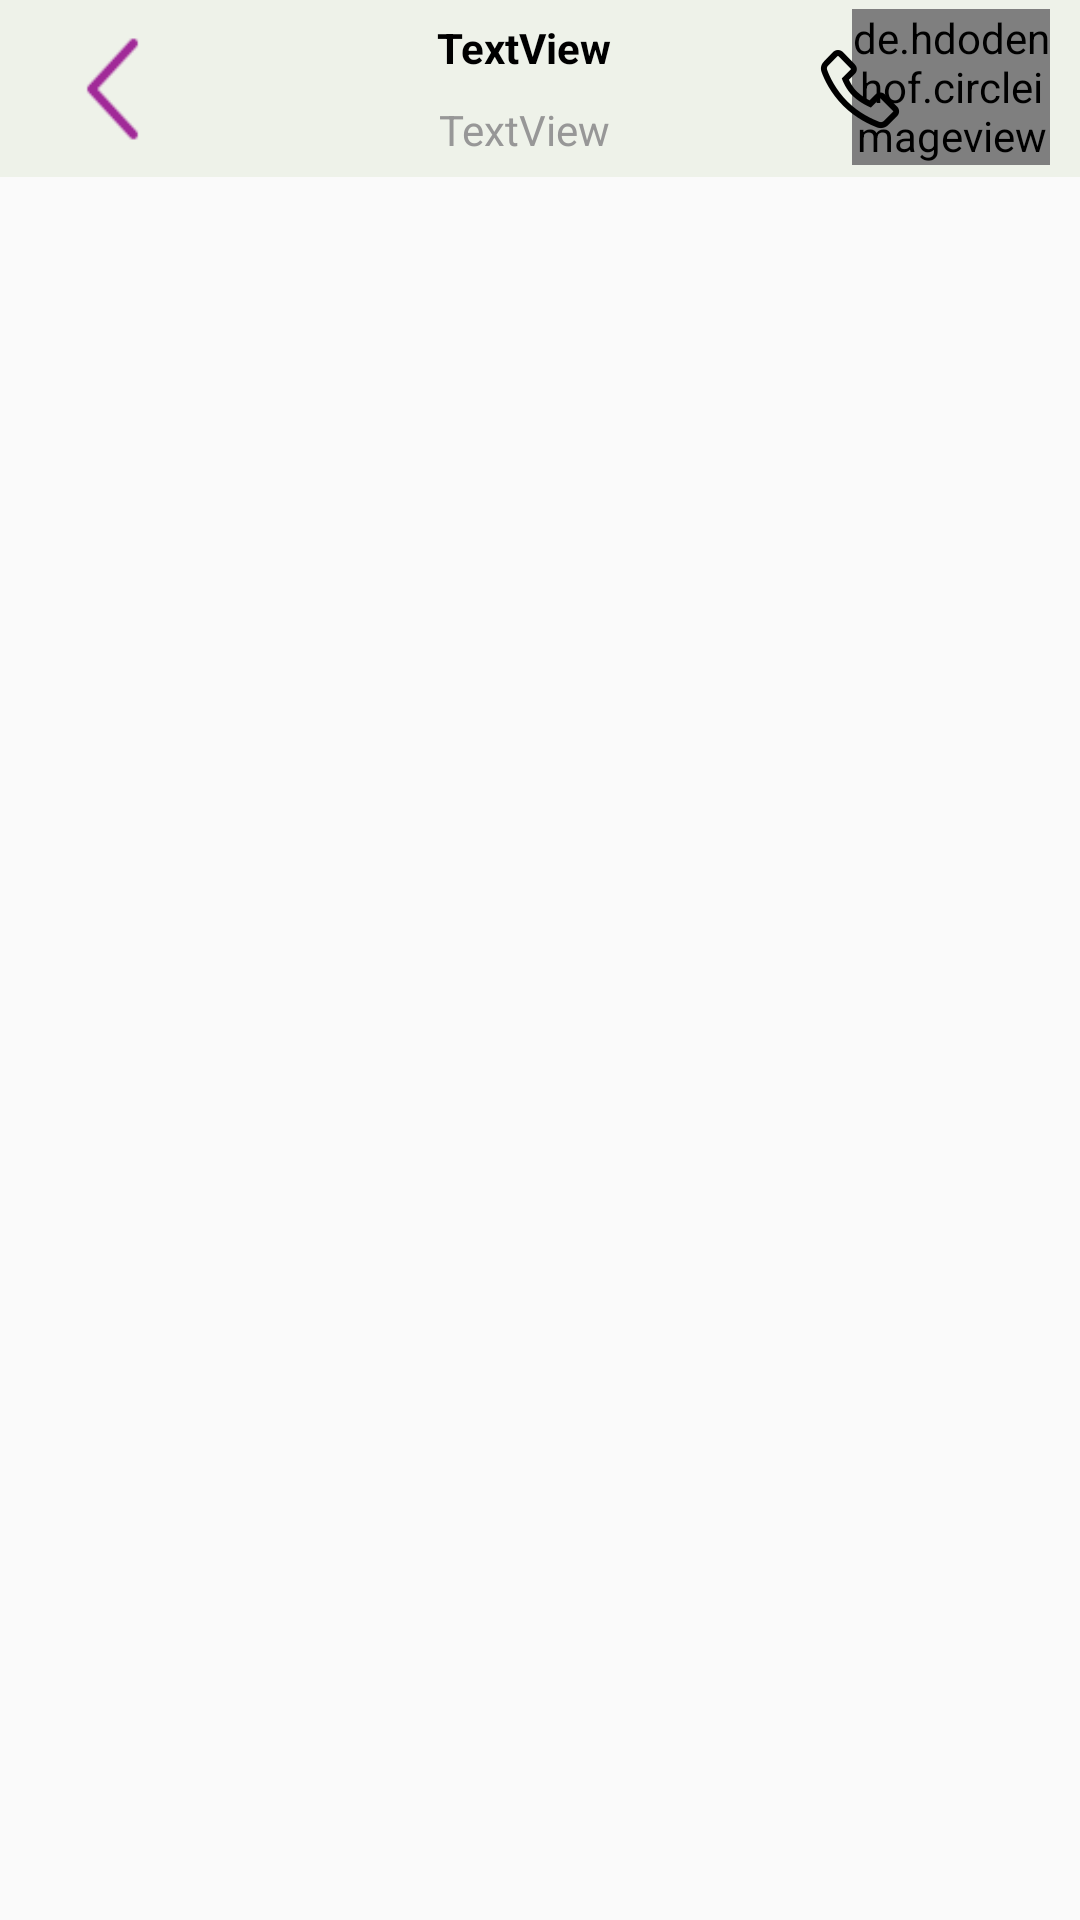

Where to tap for icons on this 1080*1920 app screen, as (x,y):
back: (112,89)
